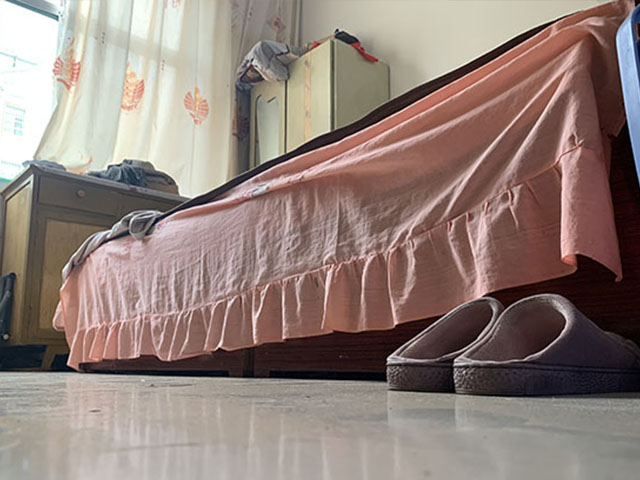bed: (57, 2, 640, 374)
cabinet: (3, 164, 195, 370)
slippers: (457, 289, 640, 396), (376, 296, 499, 389)
